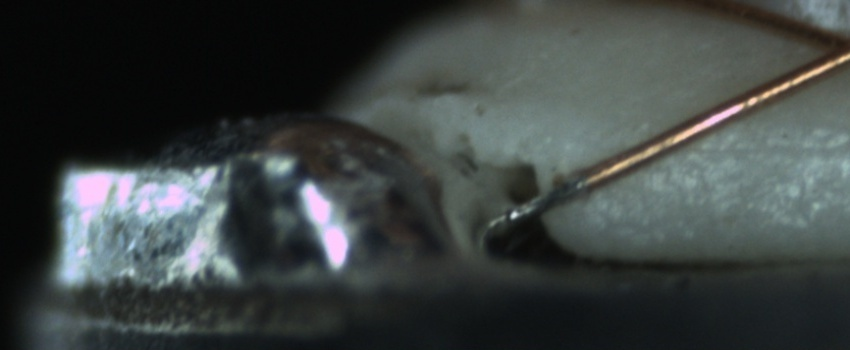CL: (797, 12, 849, 78)
DL: (680, 116, 849, 176)
TS: (497, 176, 589, 229)
TTCW: (495, 169, 602, 226)
